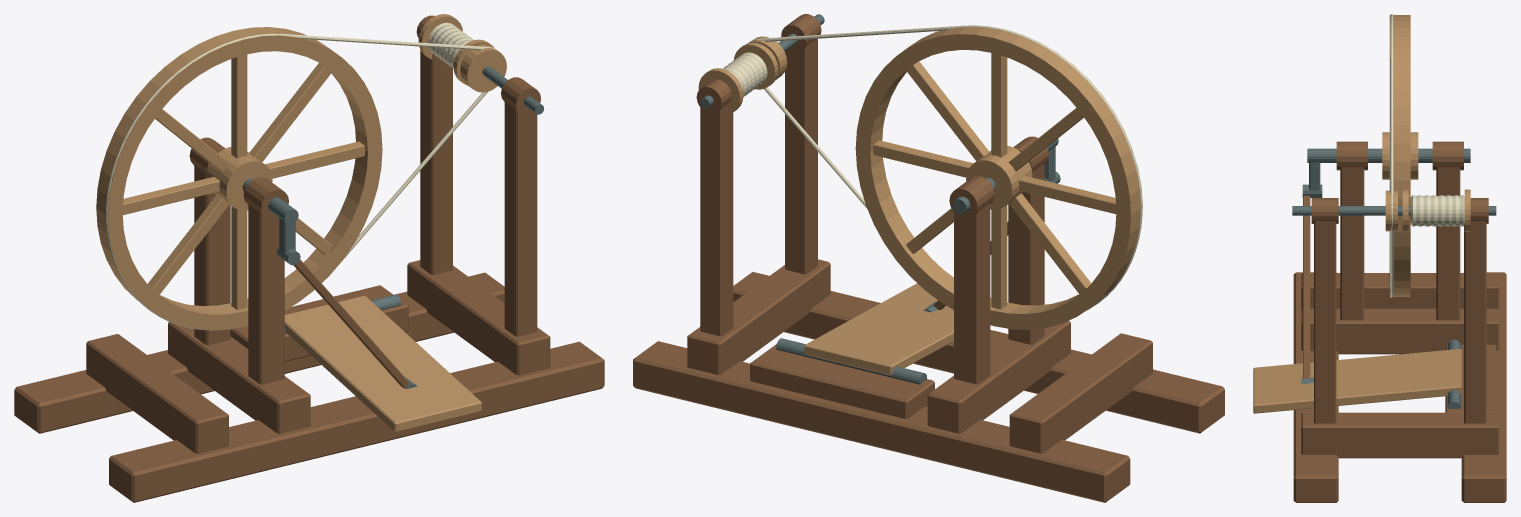
3 views of the same model, side by side, from view 1: azimuth 30°, elevation 25°; view 2: azimuth 150°, elevation 25°; view 3: azimuth 270°, elevation 25° (orthographic). The views are drawn at different scales.
Visible parts, largest first — view 1: DriveRim, GroundFoot_Front, TreadleBoard, BaseCrossbar_Left, GroundFoot_Rear, SpindlePost_Front, BaseCrossbar_Spindle, SpindlePost_Rear, BaseCrossbar_Wheel, WheelPost_Front, WheelPost_Rear, DriveCordLoop (+14 smaller); view 2: GroundFoot_Rear, DriveRim, GroundFoot_Front, BaseCrossbar_Left, TreadleBoard, SpindlePost_Rear, BaseCrossbar_Spindle, SpindlePost_Front, BaseCrossbar_Wheel, TreadleHingeSupport, WheelPost_Rear, WheelPost_Front (+17 smaller); view 3: BaseCrossbar_Spindle, TreadleBoard, BaseCrossbar_Wheel, DriveRim, SpindlePost_Front, SpindlePost_Rear, GroundFoot_Rear, WheelPost_Front, GroundFoot_Front, BaseCrossbar_Left, WheelPost_Rear, WoundYarnSleeve (+15 smaller).
Part boxes in pixels (box(x1,y1,x2,y2)): DriveRim: box(96, 27, 382, 330); GroundFoot_Front: box(109, 341, 604, 502); TreadleBoard: box(284, 295, 481, 432); BaseCrossbar_Left: box(86, 334, 228, 453); GroundFoot_Rear: box(14, 272, 504, 433); SpindlePost_Front: box(504, 101, 537, 336); BaseCrossbar_Spindle: box(407, 260, 550, 375); SpindlePost_Rear: box(420, 50, 452, 274); BaseCrossbar_Wheel: box(168, 322, 310, 433); WheelPost_Front: box(248, 204, 284, 384); WheelPost_Rear: box(194, 164, 230, 345); DriveCordLoop: box(106, 33, 497, 330); GroundFoot_Rear: box(633, 341, 1130, 502); DriveRim: box(855, 26, 1142, 329); GroundFoot_Front: box(733, 272, 1224, 433); BaseCrossbar_Left: box(1009, 333, 1152, 453); TreadleBoard: box(804, 283, 953, 375); SpindlePost_Rear: box(700, 102, 733, 336); BaseCrossbar_Spindle: box(687, 259, 830, 374); SpindlePost_Front: box(785, 38, 817, 274); BaseCrossbar_Wheel: box(927, 320, 1070, 433); TreadleHingeSupport: box(750, 344, 934, 418); WheelPost_Rear: box(954, 203, 990, 384); WheelPost_Front: box(1008, 163, 1044, 344); BaseCrossbar_Spindle: box(1301, 412, 1499, 458); TreadleBoard: box(1253, 349, 1461, 413); BaseCrossbar_Wheel: box(1301, 308, 1499, 354); DriveRim: box(1389, 15, 1410, 296); SpindlePost_Front: box(1314, 221, 1336, 423); SpindlePost_Rear: box(1464, 221, 1486, 423); GroundFoot_Rear: box(1461, 272, 1506, 502); WheelPost_Front: box(1340, 167, 1364, 320); GroundFoot_Front: box(1293, 272, 1338, 502); BaseCrossbar_Left: box(1301, 273, 1499, 309); WheelPost_Rear: box(1436, 167, 1460, 320); WoundYarnSleeve: box(1410, 195, 1464, 226).
Bounding box in the file's own units: 1.62 × 1.26 × 0.845.
